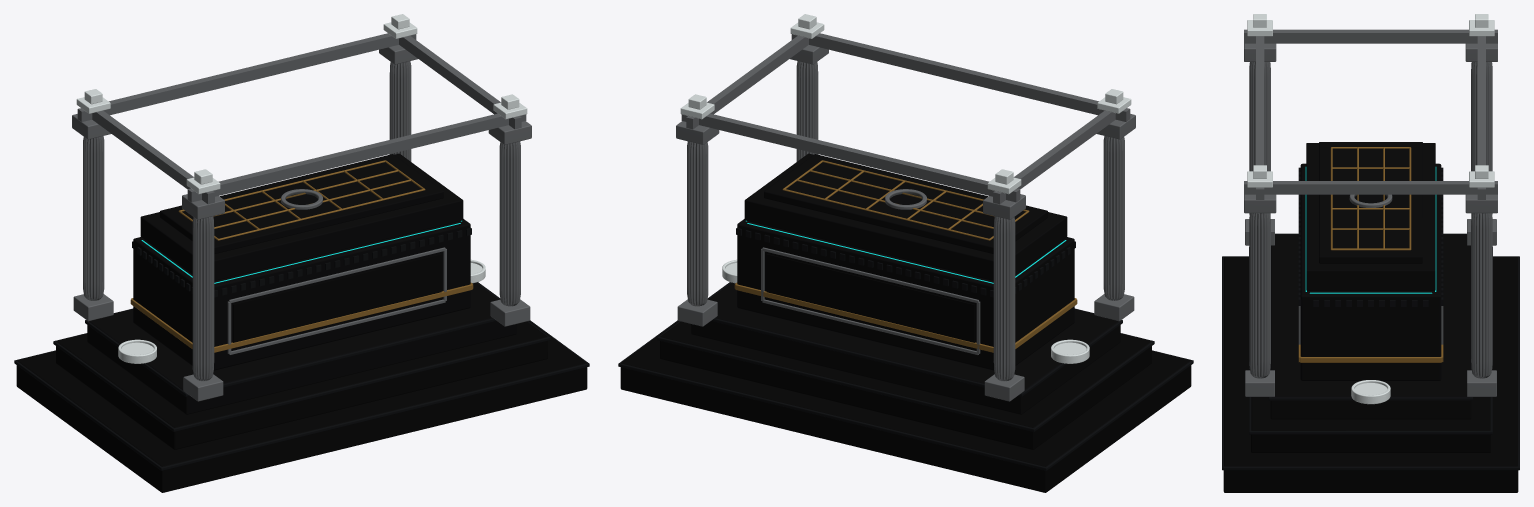
The model's file is vault_sarcophagus.glb.
3 views of the same model, side by side, from view 1: azimuth 30°, elevation 25°; view 2: azimuth 150°, elevation 25°; view 3: azimuth 270°, elevation 25° (orthographic).
Visible parts, largest first — view 1: Plinth, Frame, Sarcophagus, Lid, Ritual; view 2: Plinth, Frame, Sarcophagus, Lid, Ritual; view 3: Plinth, Frame, Lid, Sarcophagus, Ritual, SealedCore.
Part boxes in pixels (left/top/right/bottom): Plinth: left=14, top=282, right=589, bottom=492; Frame: left=72, top=33, right=531, bottom=401; Sarcophagus: left=130, top=219, right=473, bottom=370; Lid: left=140, top=153, right=463, bottom=280; Ritual: left=76, top=14, right=527, bottom=363; Plinth: left=618, top=282, right=1193, bottom=492; Frame: left=676, top=33, right=1135, bottom=401; Sarcophagus: left=734, top=219, right=1077, bottom=370; Lid: left=744, top=153, right=1067, bottom=280; Ritual: left=680, top=14, right=1131, bottom=363; Plinth: left=1222, top=233, right=1519, bottom=492; Frame: left=1244, top=29, right=1497, bottom=396; Lid: left=1306, top=142, right=1435, bottom=290; Sarcophagus: left=1298, top=163, right=1443, bottom=380; Ritual: left=1247, top=14, right=1494, bottom=404; SealedCore: left=1305, top=167, right=1436, bottom=293.
Size of the model in its own units: 4.33 by 2.83 by 2.58.
